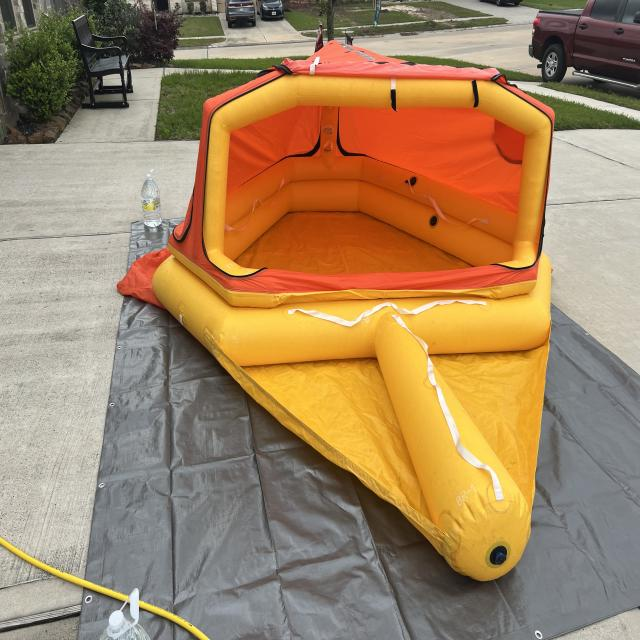Multi-person_life_raft: (117, 44, 554, 584)
